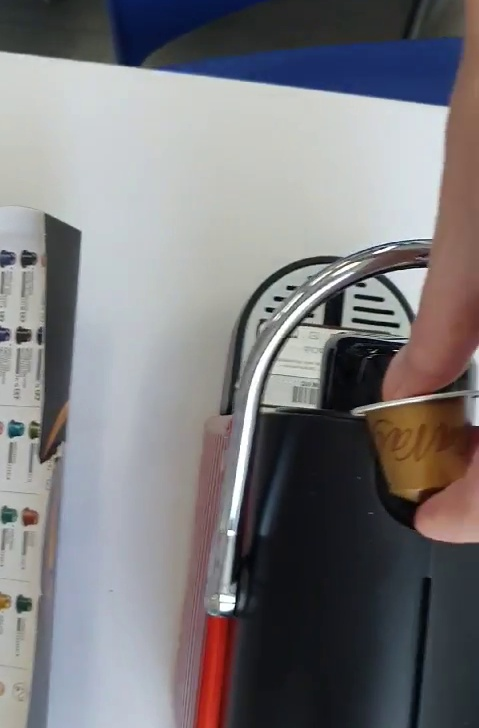capsule_9: (346, 384, 479, 507)
